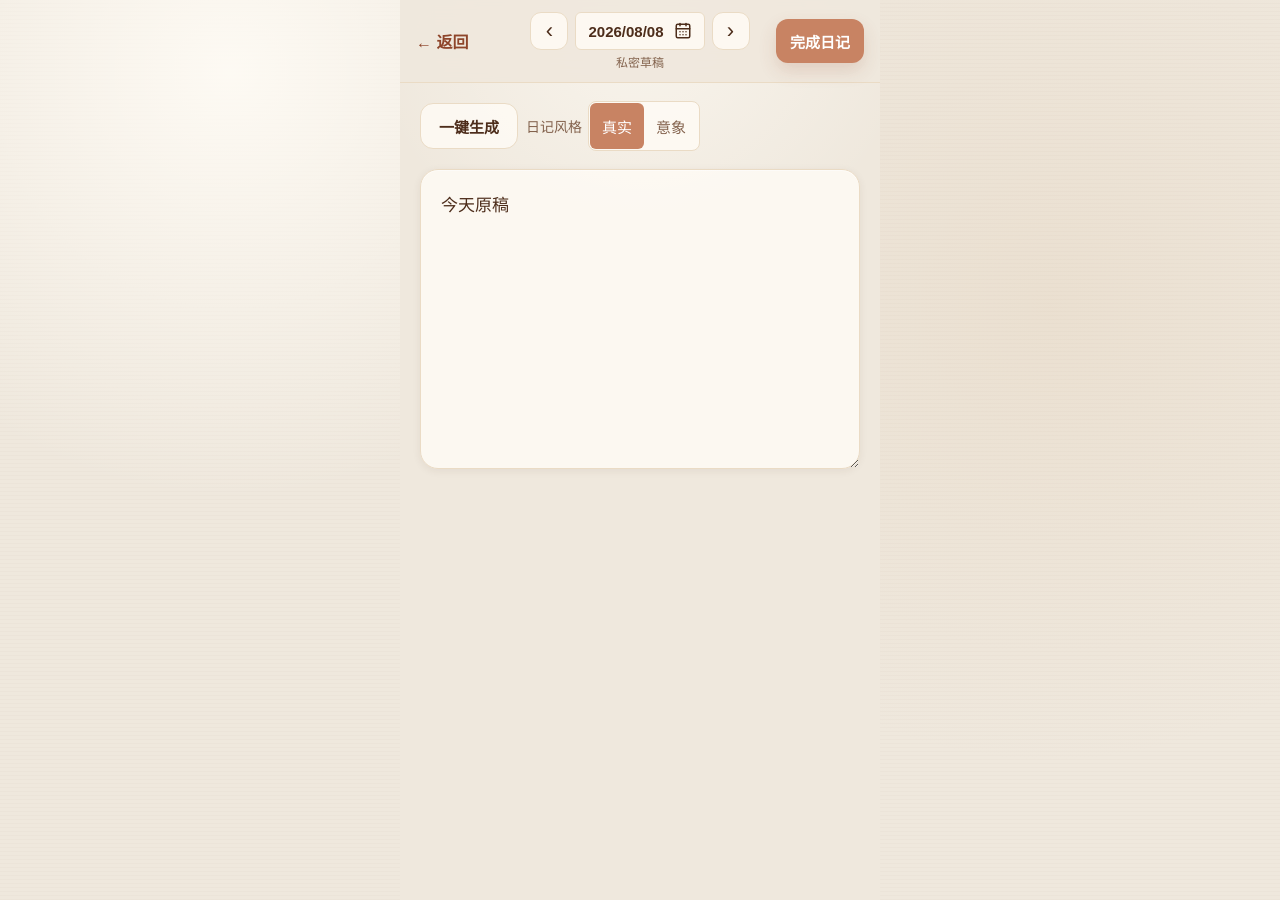
Test: DiaryEditor › uses a locally selected imagery style for overwrite generation with the source selection
The width and height of the screenshot is (1280, 900).
Expected: the text box is shown, x1=420 y1=169 x2=860 y2=469
Click the radio button labelled "意象": (671, 127) x1=656 y1=118 x2=686 y2=136
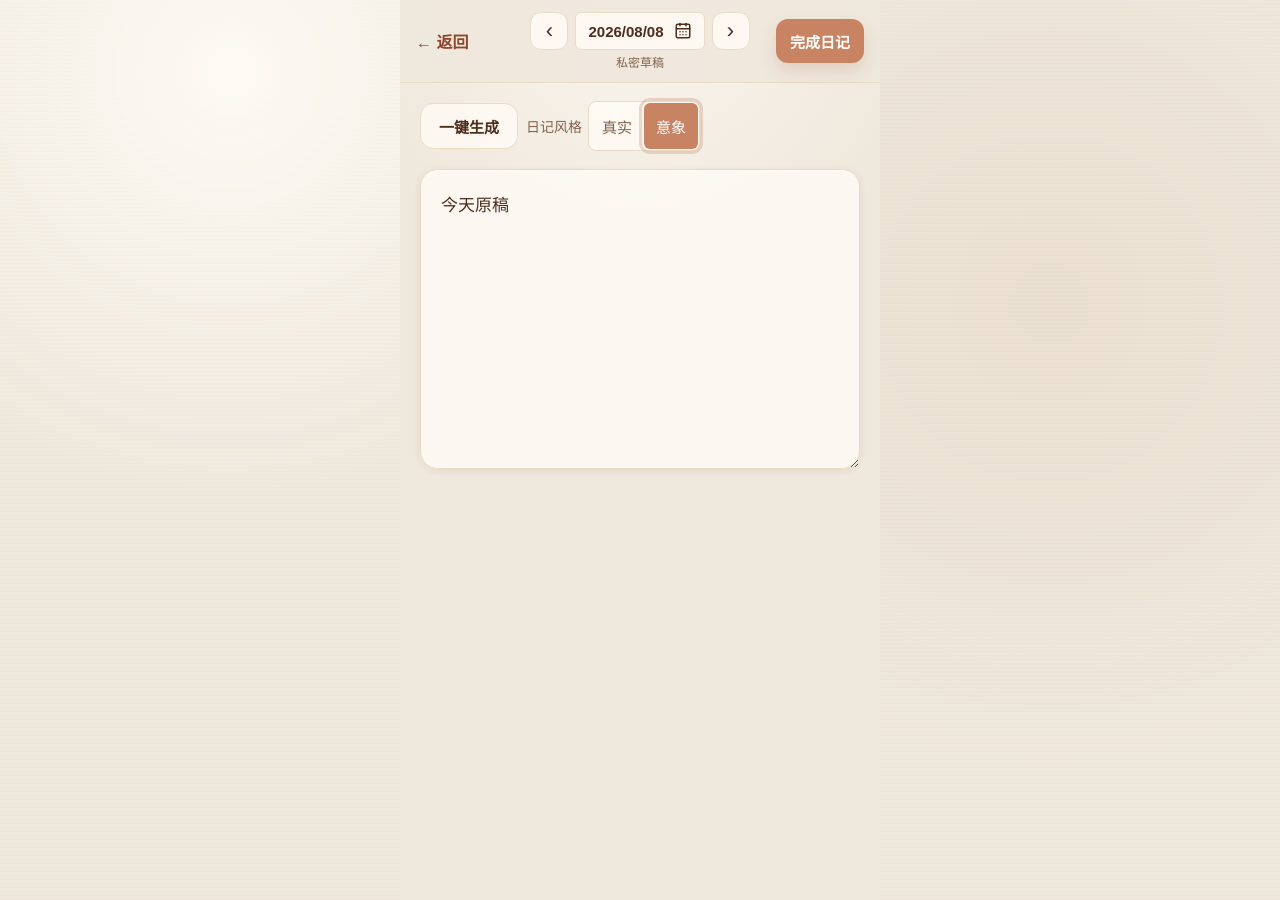
Click the button "一键生成": (469, 126) x1=420 y1=103 x2=518 y2=149
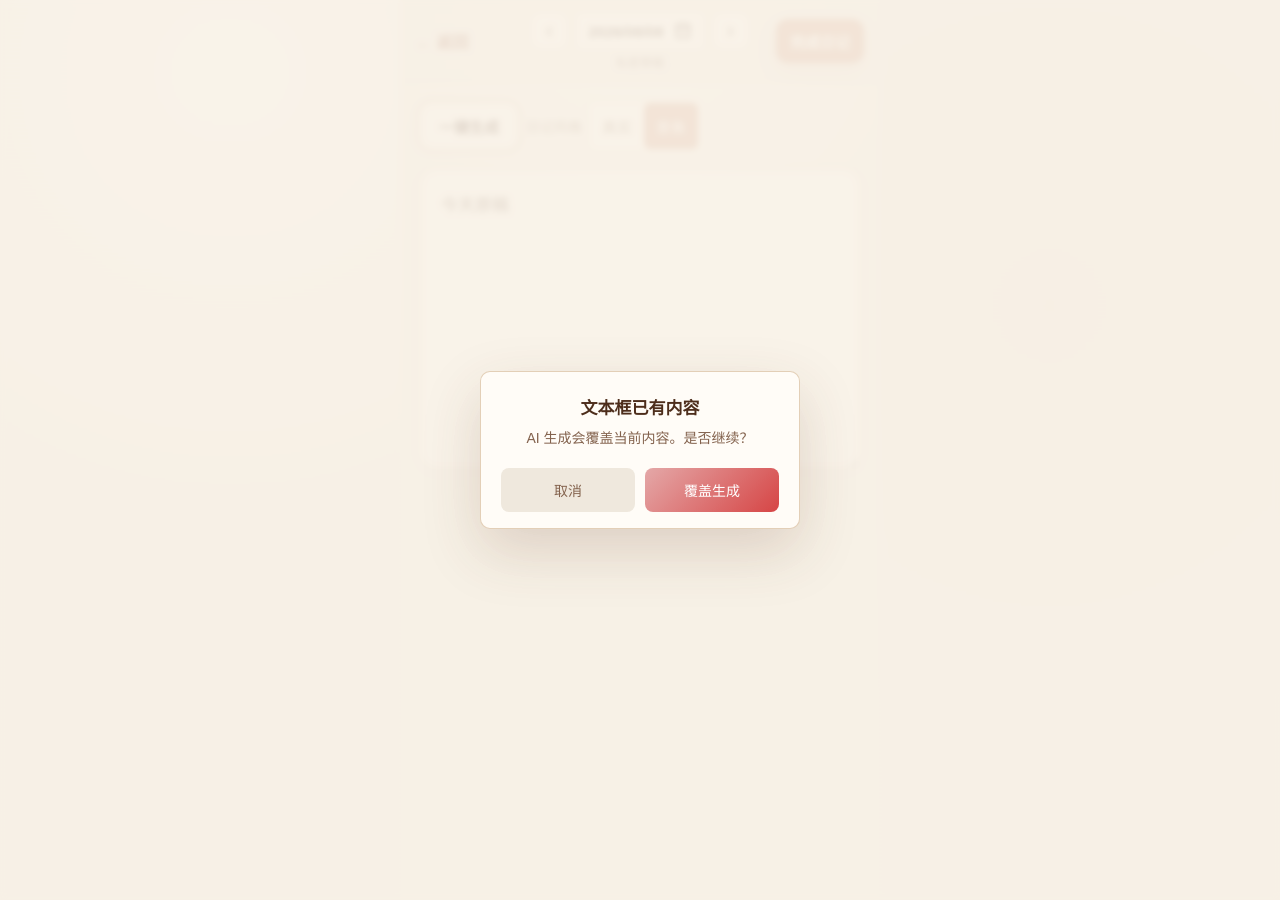
Result: the text "文本框已有内容" is shown at x1=580 y1=399 x2=700 y2=418
Click the button "覆盖生成": (712, 490) x1=645 y1=468 x2=779 y2=512
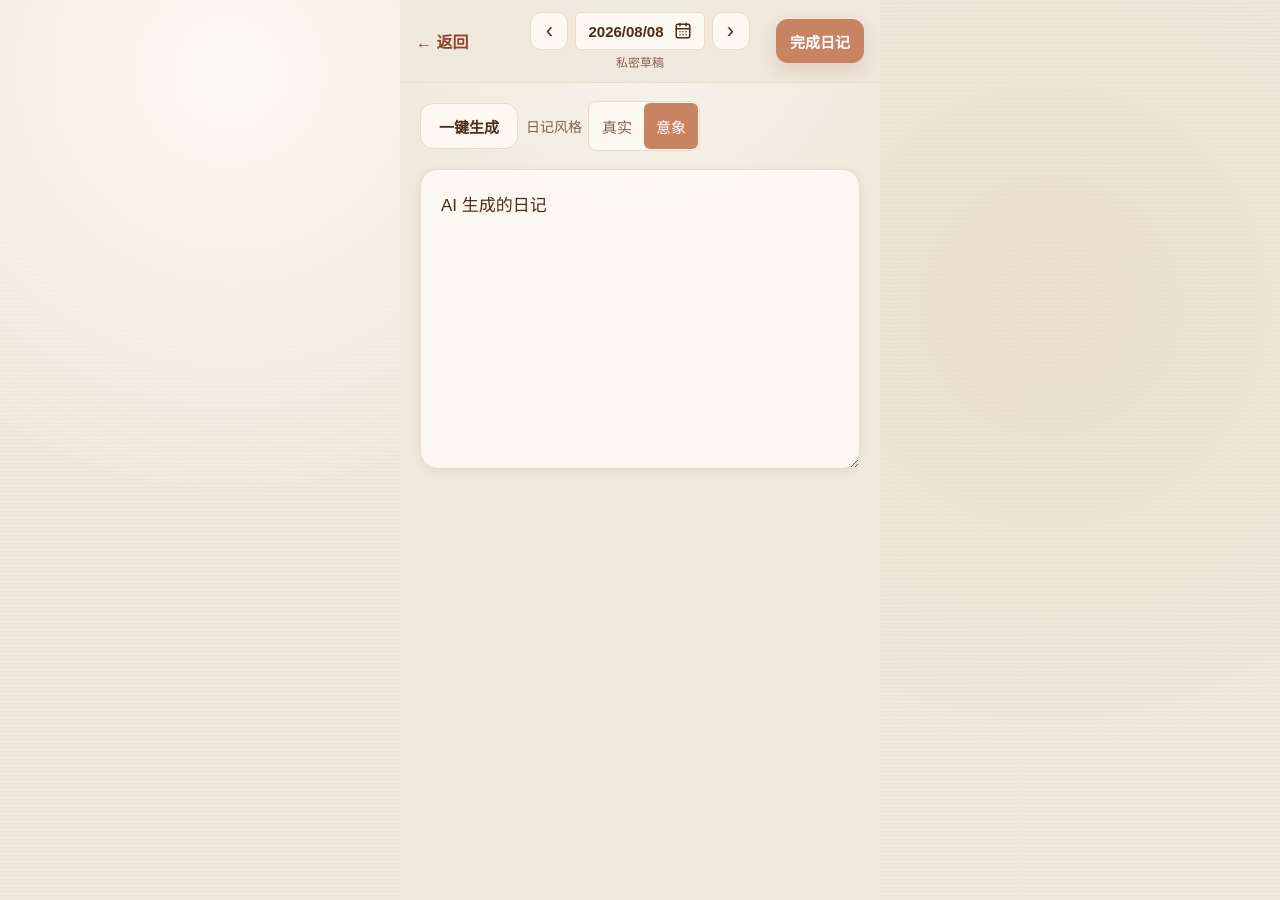
Result: the text box holds "AI 生成的日记" at x1=420 y1=169 x2=860 y2=469
